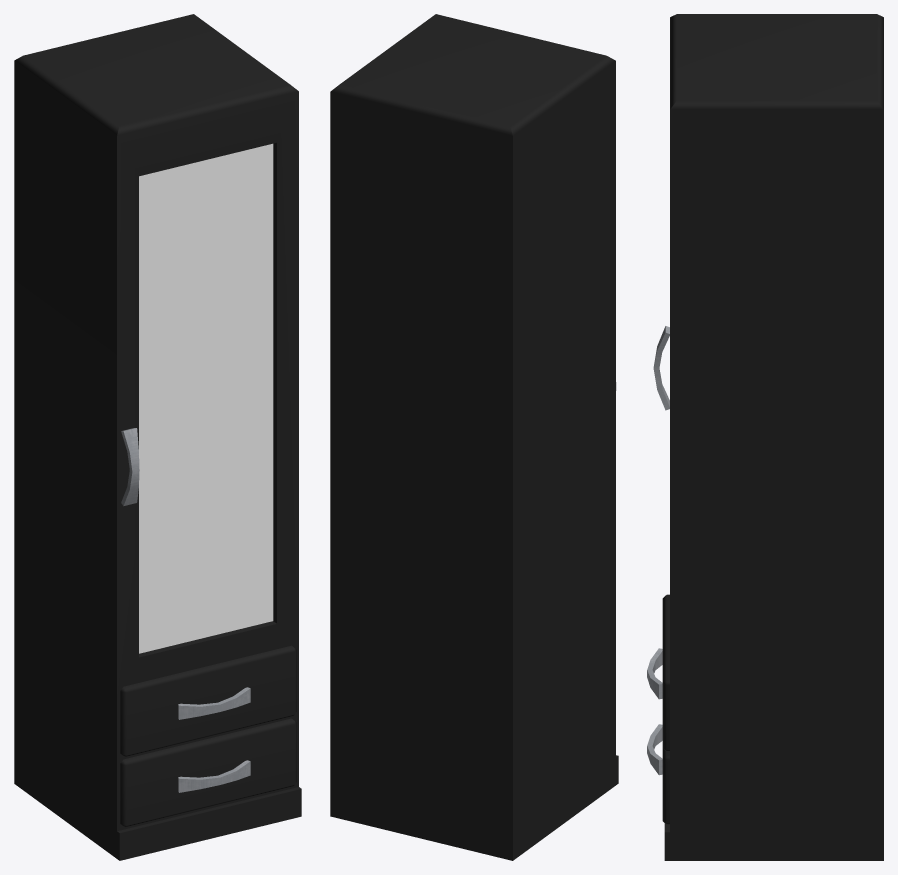
The model's file is wall cabinet_027.fbx.
The picture shows the model from 3 angles, left to right: view 1: azimuth 30°, elevation 25°; view 2: azimuth 150°, elevation 25°; view 3: azimuth 270°, elevation 25°; orthographic projection. The views are drawn at different scales.
Parts seen in each view (by area): view 1: wall cabinet_027; view 2: wall cabinet_027; view 3: wall cabinet_027.
Part boxes in pixels (x1,y1,x2,y2): wall cabinet_027: [14, 14, 301, 860]; wall cabinet_027: [330, 14, 618, 860]; wall cabinet_027: [647, 14, 883, 860].
Bounding box in the file's own units: 72.86 × 78.98 × 279.
